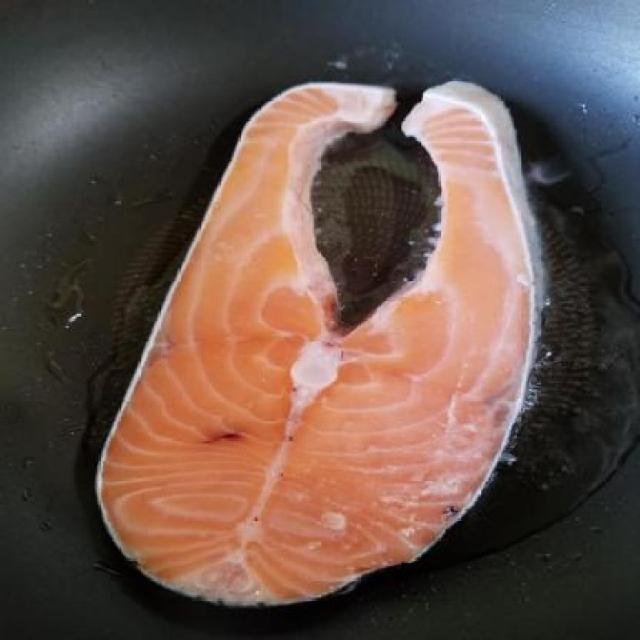salmon: (77, 51, 555, 610)
